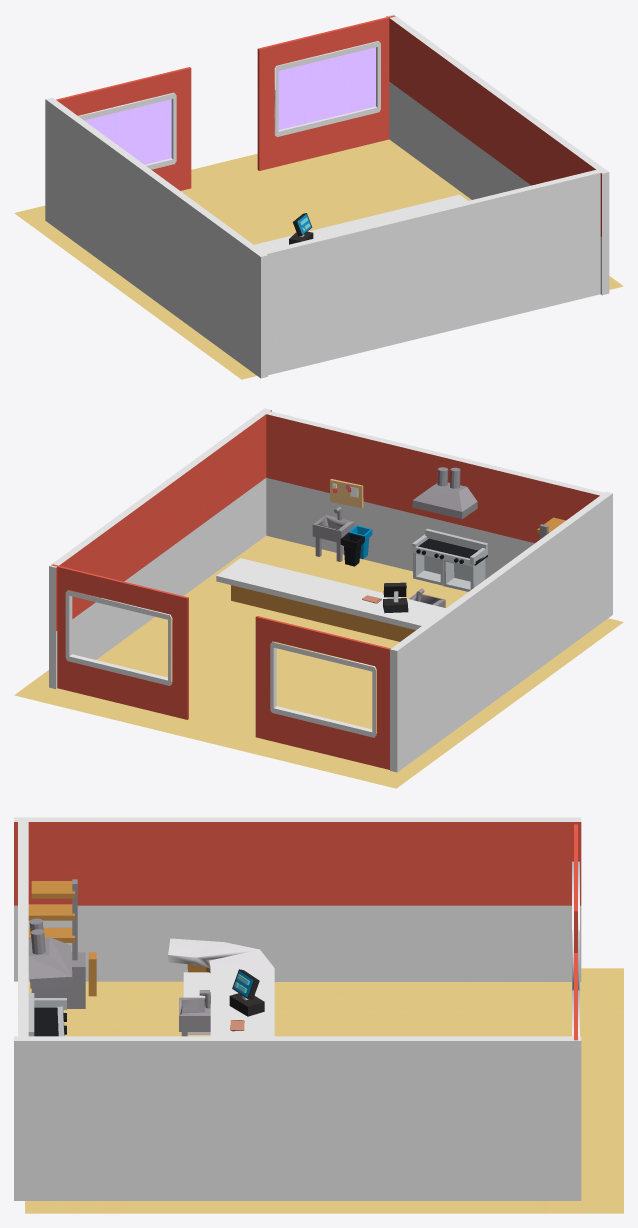
File: restraunt.glb
3 renders of one model, top to bottom at view 1: azimuth 30°, elevation 25°; view 2: azimuth 150°, elevation 25°; view 3: azimuth 270°, elevation 25°, orthographic. The views are drawn at different scales.
Visible parts, largest first — view 1: backWall.001; view 2: backWall.001; view 3: backWall.001.
Boxes of the visible parts, x1,y1,x2,y2 form: backWall.001: (14,14,623,379); backWall.001: (14,408,623,788); backWall.001: (14,817,623,1213).
Bounding box in the file's own units: 26 × 8 × 27.3.
1 material, 1 textured.
